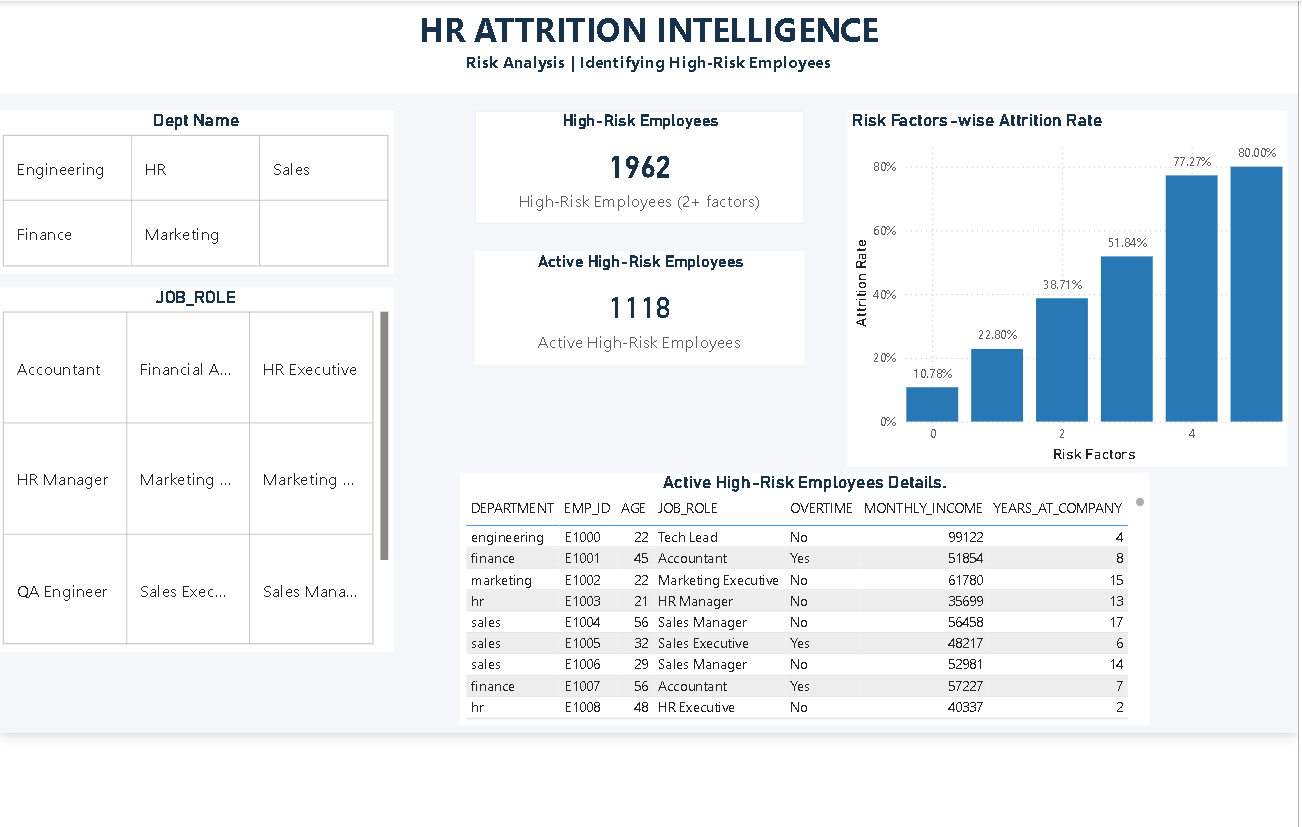

This screenshot's page, from the dashboard's own definition file:
{"tool":"powerbi","page":{"name":"Risk Segmentation & Action List","canvas":[1280,720],"ordinal":2},"visuals":[{"type":"advancedSlicerVisual","fields":{"Values":["HR_ATTRITION_FINAL.Dept Name"]},"box":[0,107.9,389.6,159.8],"z":0},{"type":"advancedSlicerVisual","fields":{"Values":["HR_ATTRITION_FINAL.JOB_ROLE"]},"box":[0,281.7,389.6,358.8],"z":1000},{"type":"clusteredColumnChart","title":"Risk Factors-wise Attrition Rate","fields":{"Category":["HR_ATTRITION_FINAL.Risk Factors"],"Y":["_measures.Attrition Rate"]},"box":[835.3,107.9,433.1,350],"z":2000},{"type":"card","title":"High-Risk Employees","fields":{"Values":["_measures.High-Risk Employees (2+ factors)"]},"box":[469.5,107.9,323.8,110.7],"z":3000},{"type":"card","title":"Active High-Risk Employees","fields":{"Values":["_measures.Active High-Risk Employees"]},"box":[469.5,246.7,323.8,110.7],"z":4000},{"type":"tableEx","title":"Active High-Risk Employees Details.","fields":{"Values":["HR_ATTRITION_FINAL.DEPARTMENT","HR_ATTRITION_FINAL.EMP_ID","HR_ATTRITION_FINAL.AGE","HR_ATTRITION_FINAL.JOB_ROLE","HR_ATTRITION_FINAL.OVERTIME","HR_ATTRITION_FINAL.MONTHLY_INCOME","HR_ATTRITION_FINAL.YEARS_AT_COMPANY"]},"box":[454.1,463.9,678.4,248.1],"z":5000},{"type":"textbox","box":[0,0,1279.6,91.1],"z":6000}]}

Visuals, with their boxes on the page's 1280x720 design canvas (x1, y1, x2, y2). These are canvas units, not pixel positions in the 1302x827 screenshot, which may show the page scaled, cropped or inside an application window:
advancedSlicerVisual - HR_ATTRITION_FINAL.Dept Name: (x1=0, y1=108, x2=390, y2=268)
advancedSlicerVisual - HR_ATTRITION_FINAL.JOB_ROLE: (x1=0, y1=282, x2=390, y2=640)
"Risk Factors-wise Attrition Rate" clusteredColumnChart: (x1=835, y1=108, x2=1268, y2=458)
"High-Risk Employees" card: (x1=470, y1=108, x2=793, y2=219)
"Active High-Risk Employees" card: (x1=470, y1=247, x2=793, y2=357)
"Active High-Risk Employees Details." tableEx: (x1=454, y1=464, x2=1132, y2=712)
textbox: (x1=0, y1=0, x2=1280, y2=91)
